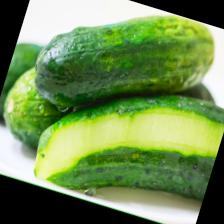cucumber: (25, 56, 224, 224), (24, 0, 222, 145)
